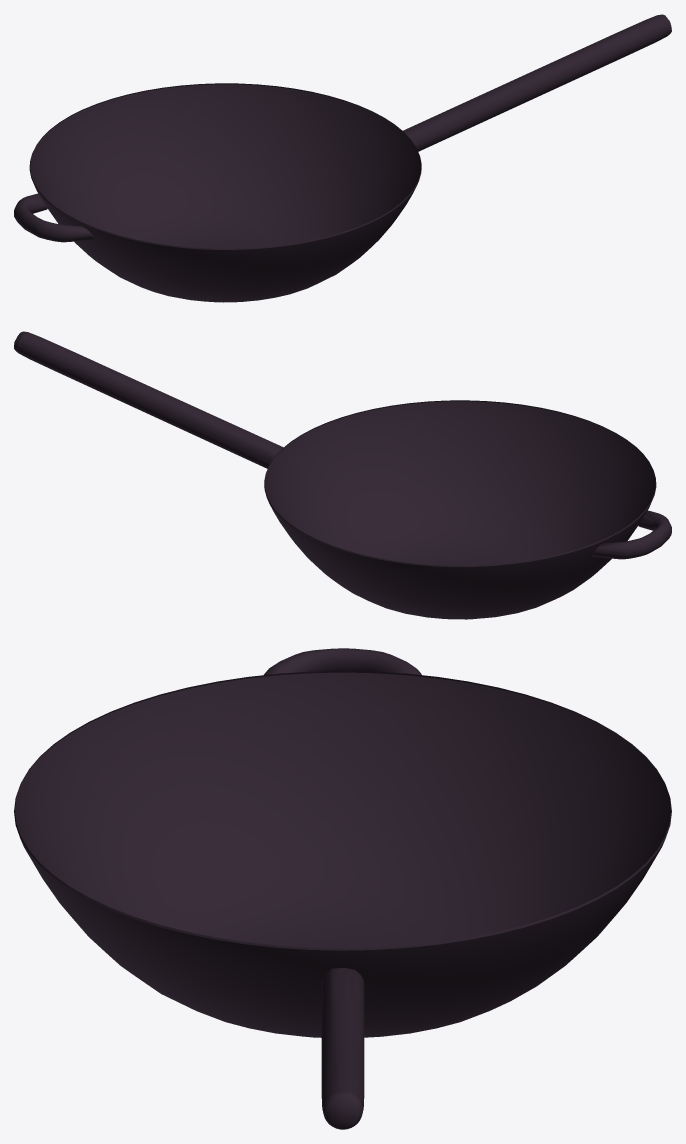
Rendered from wok.gltf.
The picture shows the model from 3 angles, top to bottom: view 1: azimuth 30°, elevation 25°; view 2: azimuth 150°, elevation 25°; view 3: azimuth 270°, elevation 25°; orthographic projection. The views are drawn at different scales.
Parts seen in each view (by area): view 1: Cylinder; view 2: Cylinder; view 3: Cylinder.
Boxes of the visible parts, x1,y1,x2,y2 form: Cylinder: (14,14,671,302); Cylinder: (14,331,671,619); Cylinder: (14,648,671,1129).
Size of the model in its own units: 3.46 by 0.7432 by 1.82.
